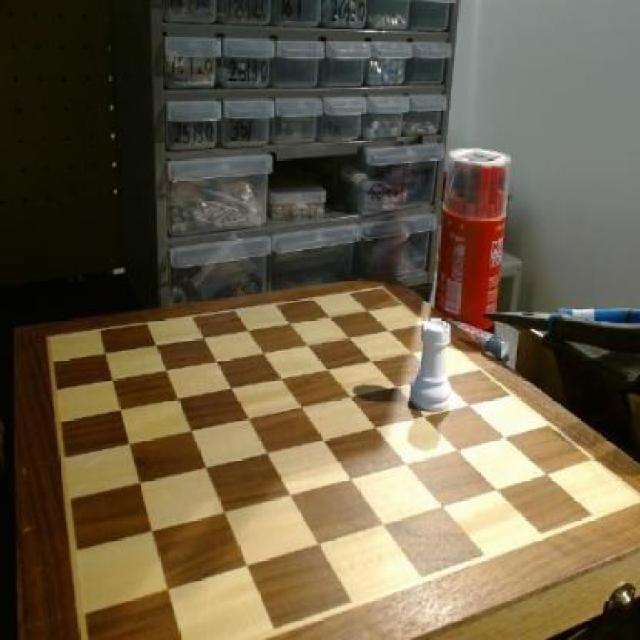white-queen: (406, 313, 455, 422)
